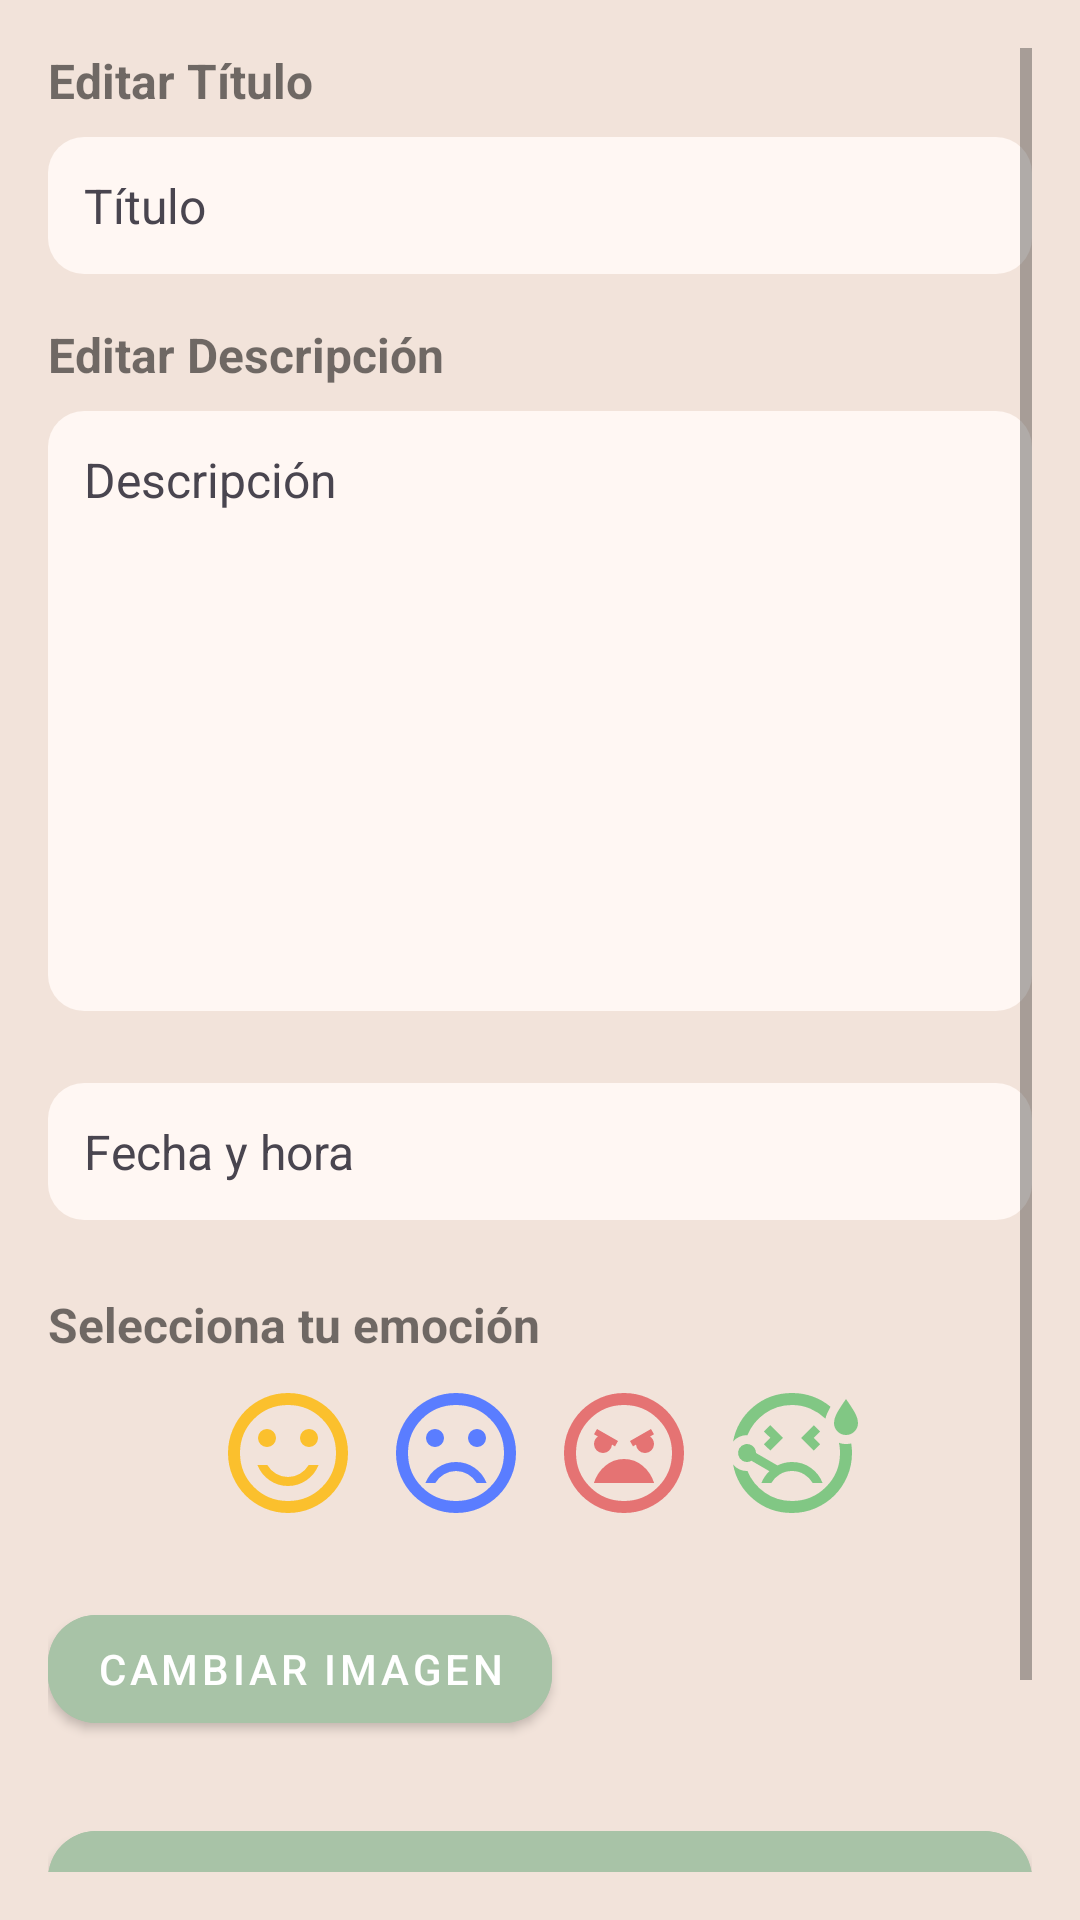

Icons on this 1080w x 1920h Android screen, each with its box as [x1=x1, y1=y1, x2=x2, y2=y2]:
emocion enfadado: [x1=564, y1=1393, x2=684, y2=1513]
emocion enfermo: [x1=733, y1=1393, x2=858, y2=1513]
emocion feliz: [x1=228, y1=1393, x2=348, y2=1513]
emocion triste: [x1=396, y1=1393, x2=516, y2=1513]
